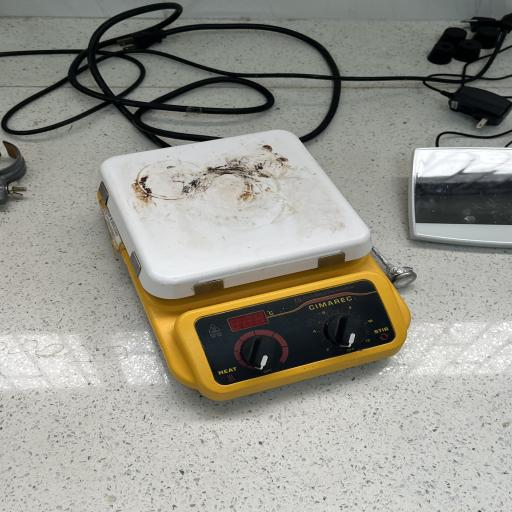Plancha_Agitacion_Cimarec: (86, 118, 410, 398)
